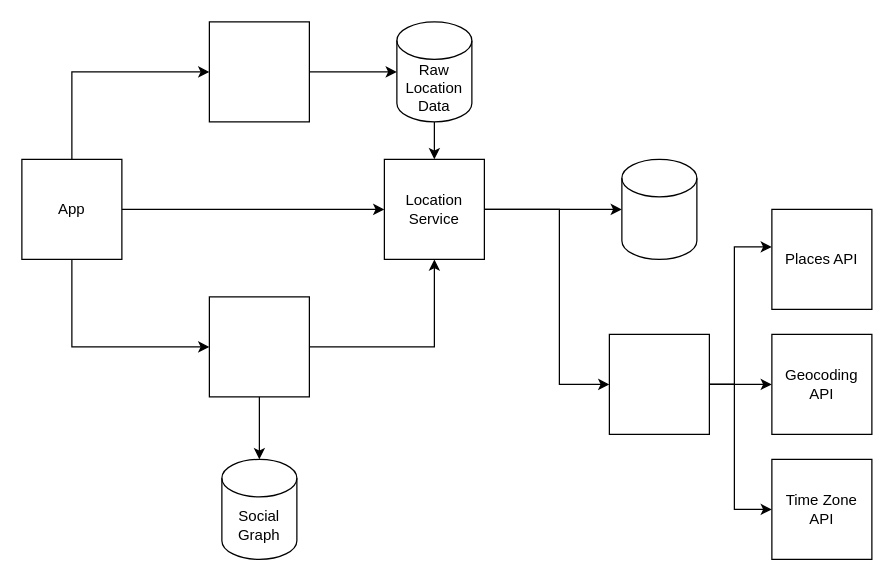
Some shapes in this 894 by 581 pixel diagram are drawn without their labels. Each missing label, with the centre of its shape:
Google Maps Platform: pixel 658 383
Ingestion Service: pixel 258 71
Location Data: pixel 659 208
Social Service: pixel 258 346
